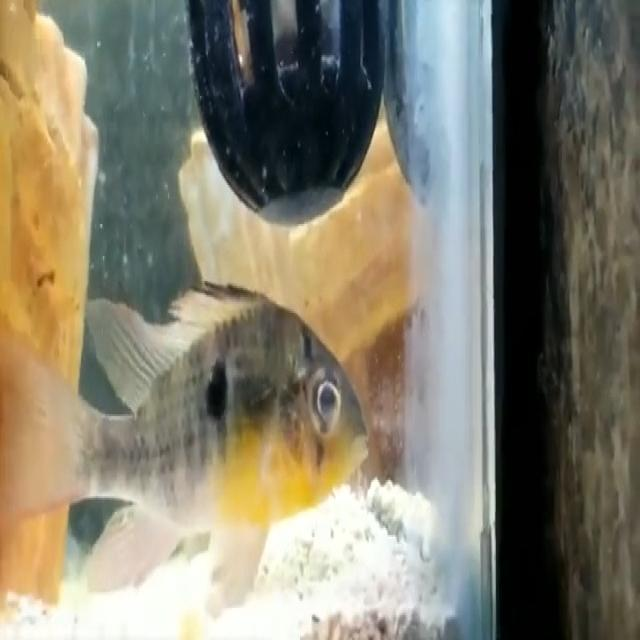fish: (5, 274, 378, 610)
